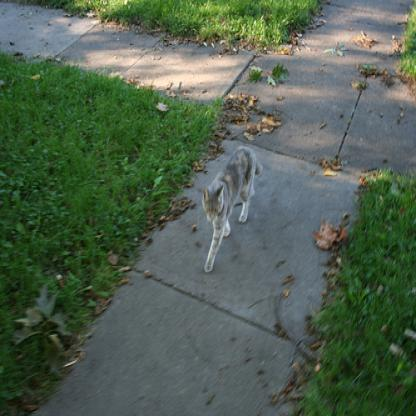cat: (202, 146, 260, 274)
